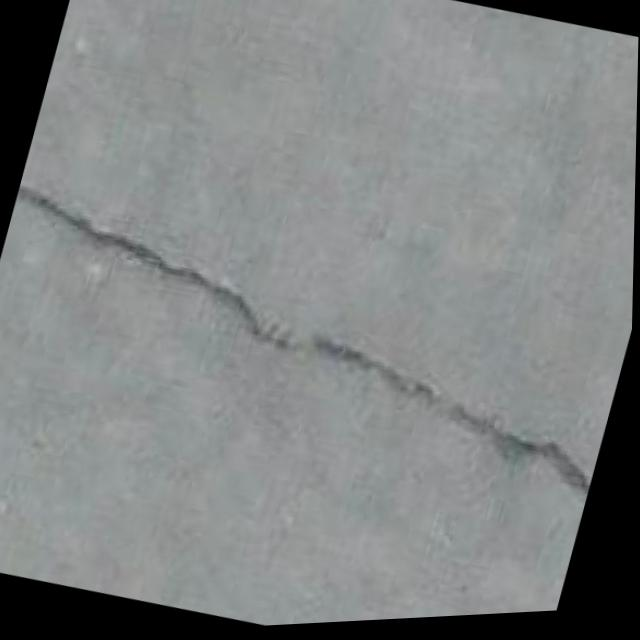Crack: (0, 150, 637, 547)
